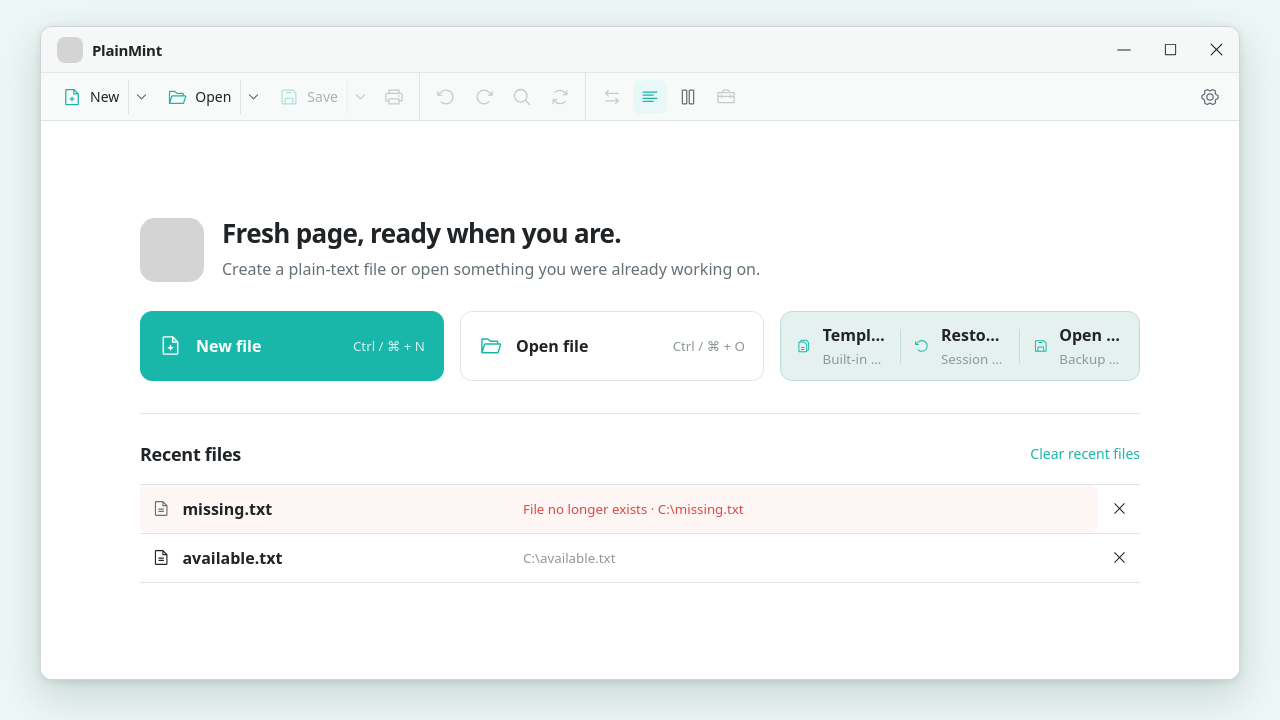
Test case: tab and split interactions › marks missing recent files before they can be opened
Expected: the button with aria-label "missing.txt is unavailable" is disabled, [140,484,1098,532]
Expected: the text "File no longer exists · C:\\missing.txt" is shown, [523,500,744,518]
Click the button named "Open options" at (253, 96), box [240,80,266,114]
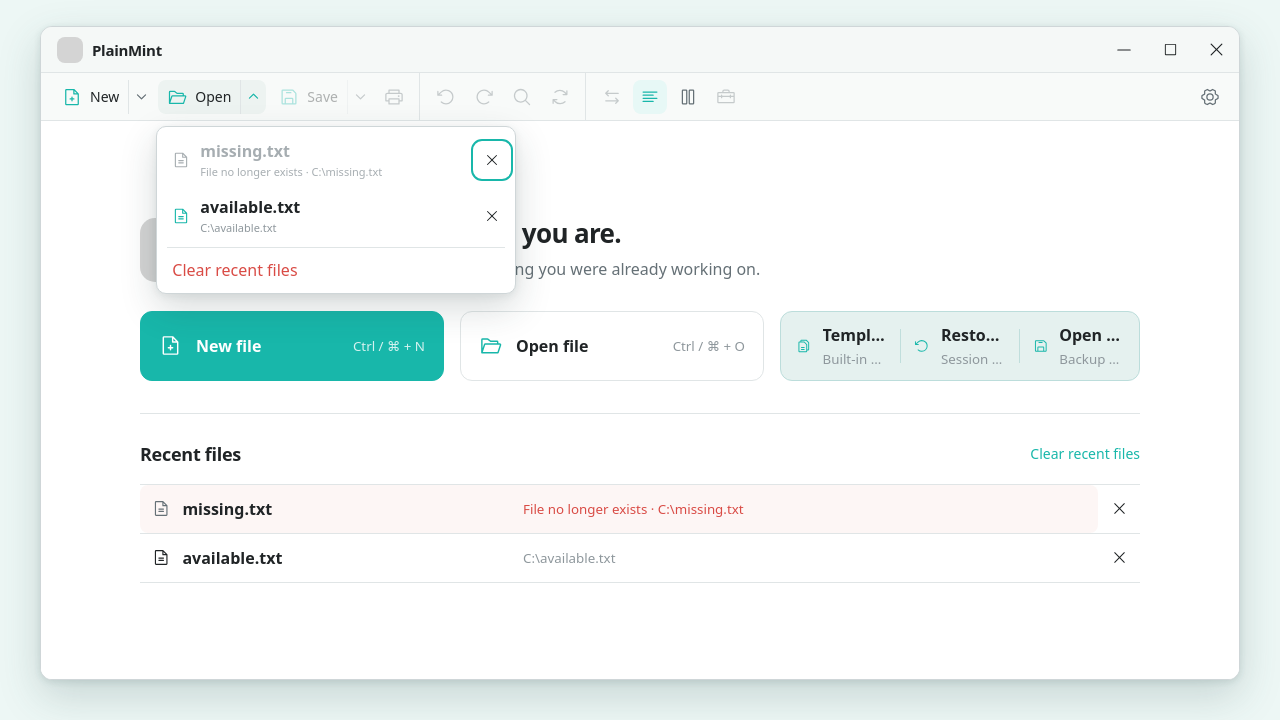
Expected: the menu item with aria-label "missing.txt is unavailable" is disabled, [163,133,472,186]
Expected: the 1st text "File no longer exists · C:\\missing.txt" is shown, [200,164,382,179]
Expected: the menu item named "Remove missing.txt from recent files" is enabled, [475,142,509,176]
